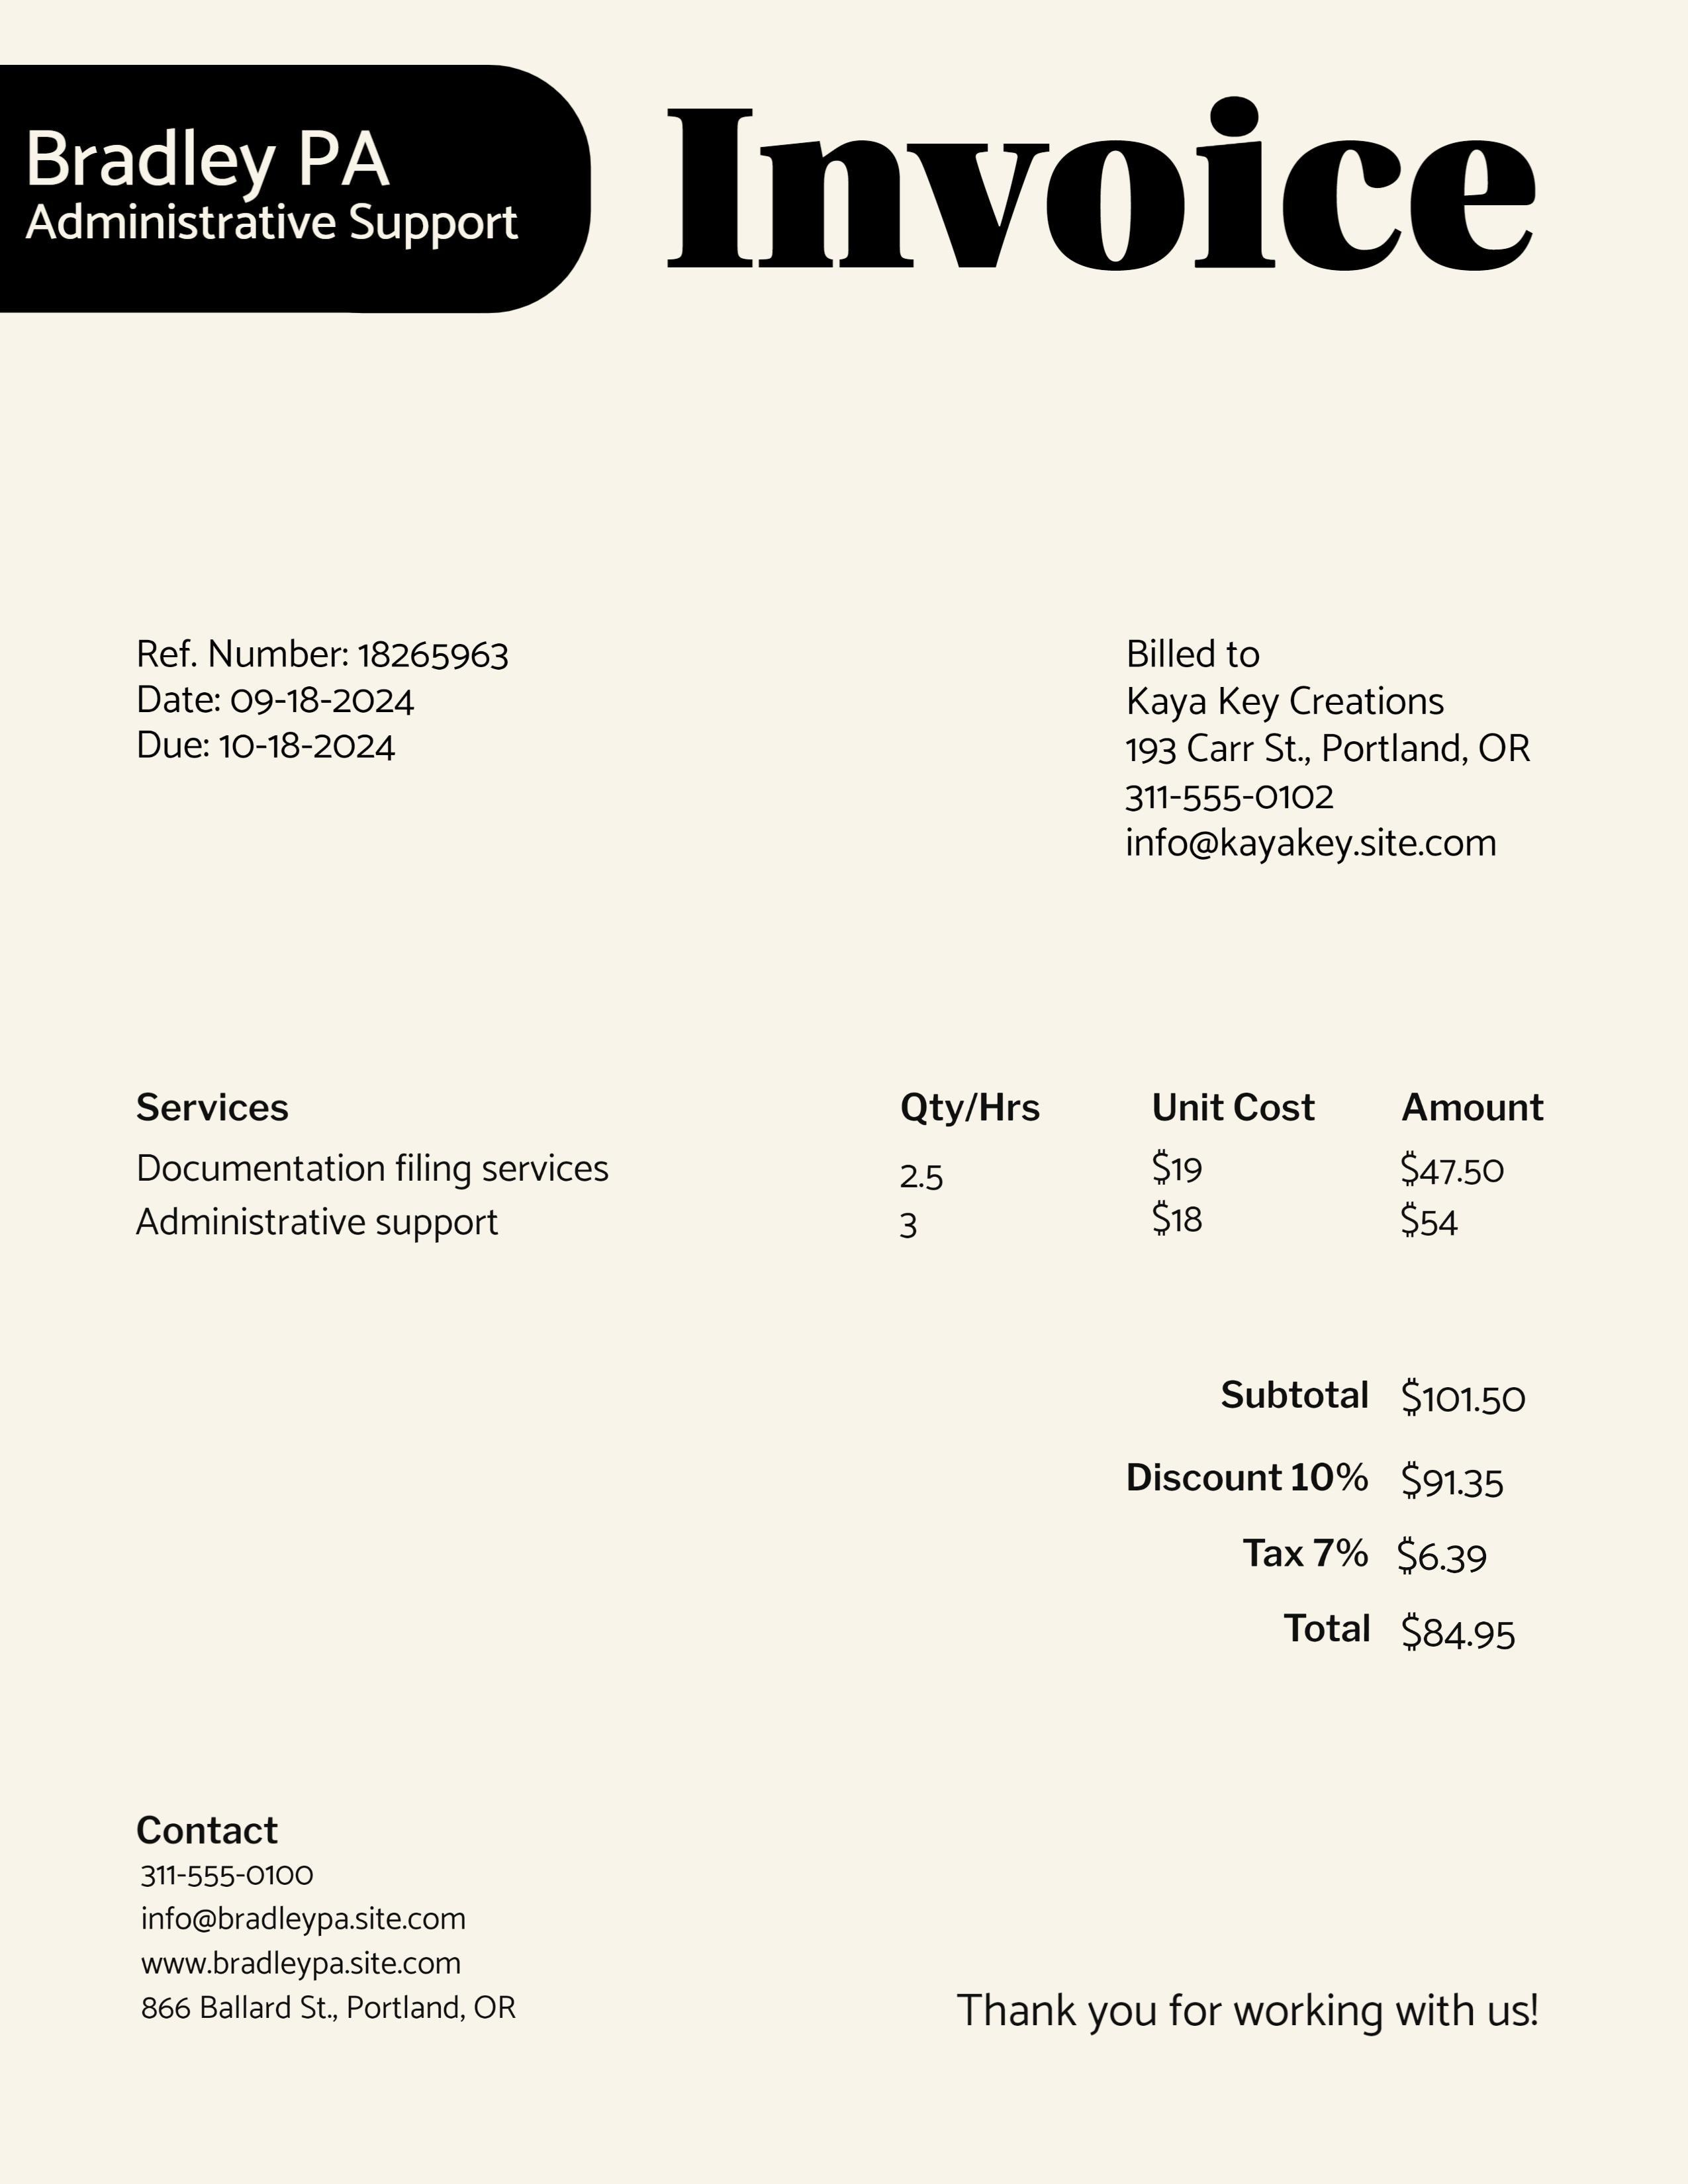ROI: (115, 1072, 1583, 1276), (1110, 1354, 1555, 1686), (1099, 613, 1566, 888), (90, 608, 550, 780), (14, 119, 535, 268)
